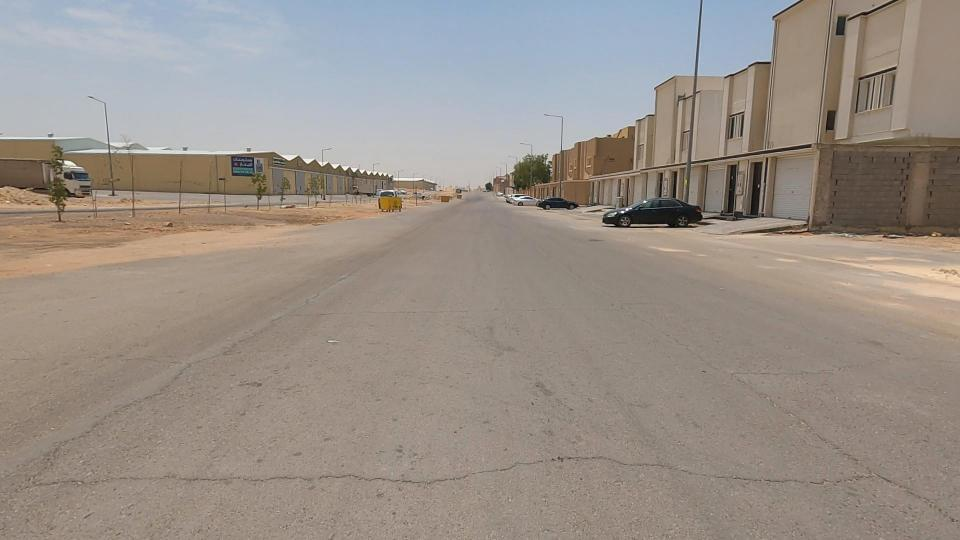GARBAGE: (260, 182, 313, 224)
